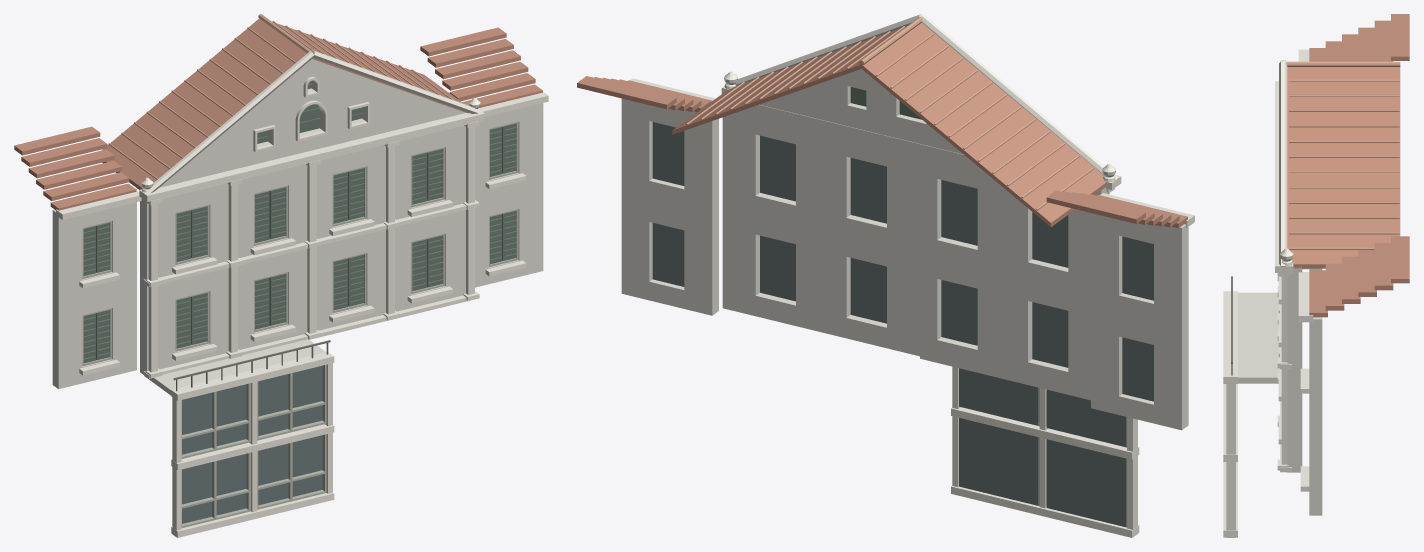
File: xuhui-zikawei-convent-central-front-lod.glb
The picture shows the model from 3 angles, left to right: view 1: azimuth 30°, elevation 25°; view 2: azimuth 150°, elevation 25°; view 3: azimuth 270°, elevation 25°; orthographic projection. The views are drawn at different scales.
Parts seen in each view (by area): view 1: 徐家汇圣母院旧主楼庭院中央山花立面; view 2: 徐家汇圣母院旧主楼庭院中央山花立面; view 3: 徐家汇圣母院旧主楼庭院中央山花立面.
Part boxes in pixels (<box>): 徐家汇圣母院旧主楼庭院中央山花立面: <box>14,14,548,537</box>; 徐家汇圣母院旧主楼庭院中央山花立面: <box>577,14,1194,537</box>; 徐家汇圣母院旧主楼庭院中央山花立面: <box>1223,14,1409,537</box>.
Size of the model in its own units: 20.06 by 16.88 by 5.93.
